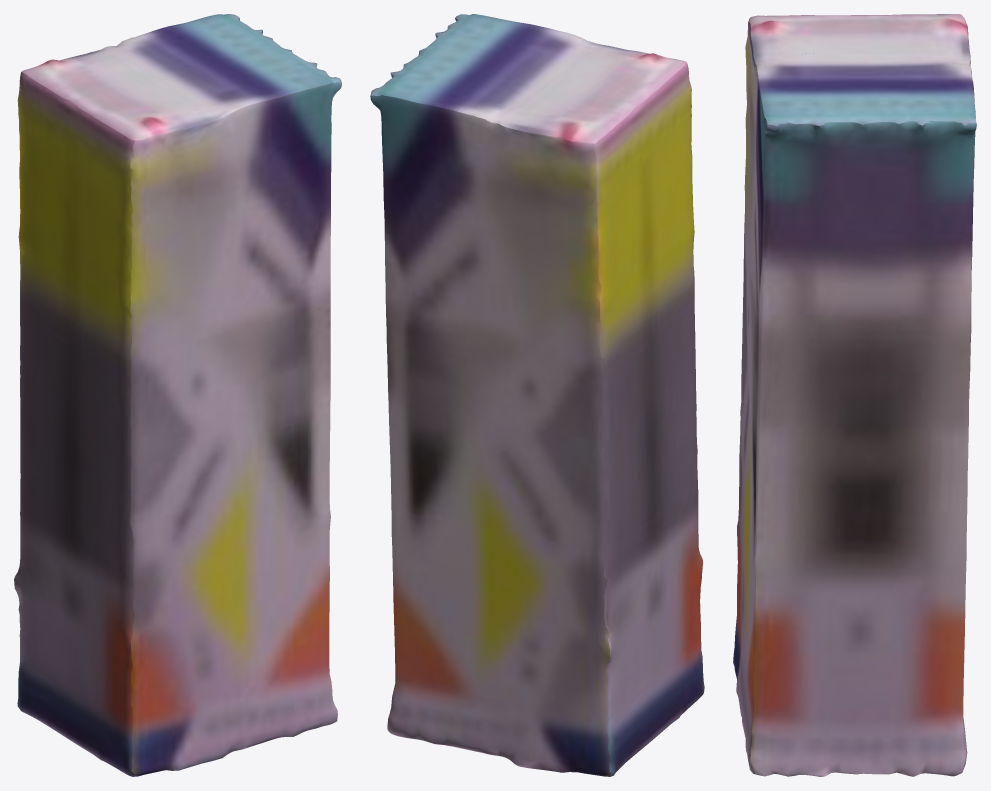
3 renders of one model, left to right at view 1: azimuth 30°, elevation 25°; view 2: azimuth 150°, elevation 25°; view 3: azimuth 270°, elevation 25°, orthographic. The views are drawn at different scales.
Parts seen in each view (by area): view 1: world; view 2: world; view 3: world.
Part boxes in pixels (x1,y1,x2,y2): world: (14,14,341,776); world: (370,14,704,776); world: (733,14,976,776).
Bounding box in the file's own units: 0.1894 × 0.4901 × 0.1613.
Materials: 1 (1 with a texture image).
